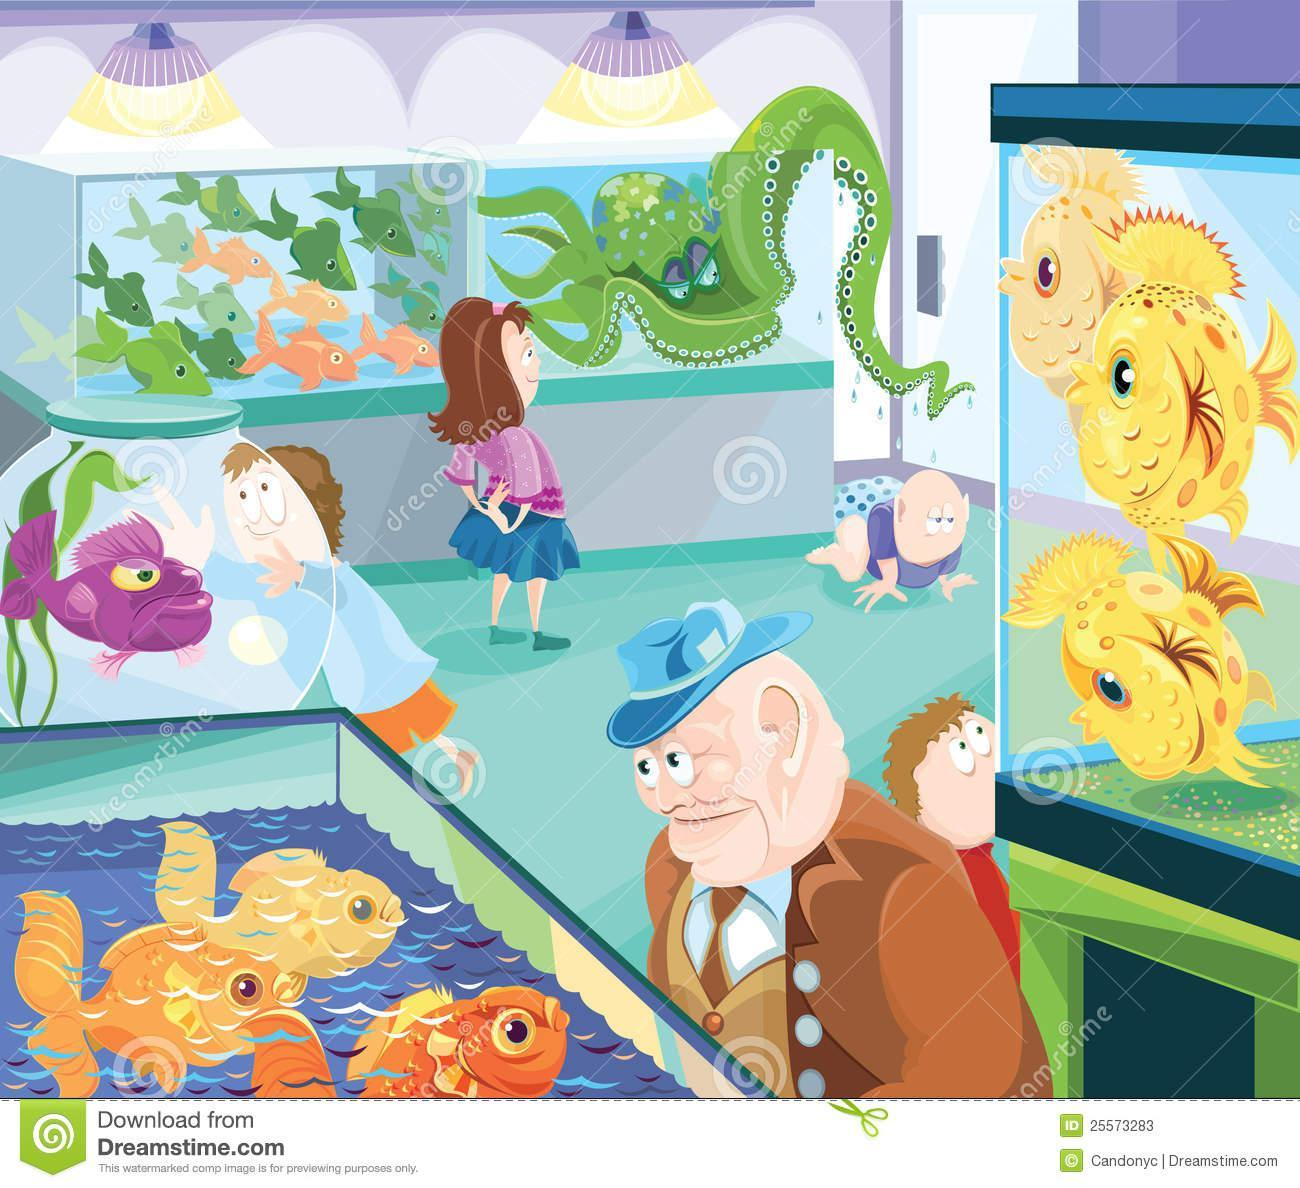person: (581, 615, 1049, 1105), (216, 440, 496, 803), (427, 296, 574, 662), (874, 694, 1033, 966), (805, 466, 984, 608)
